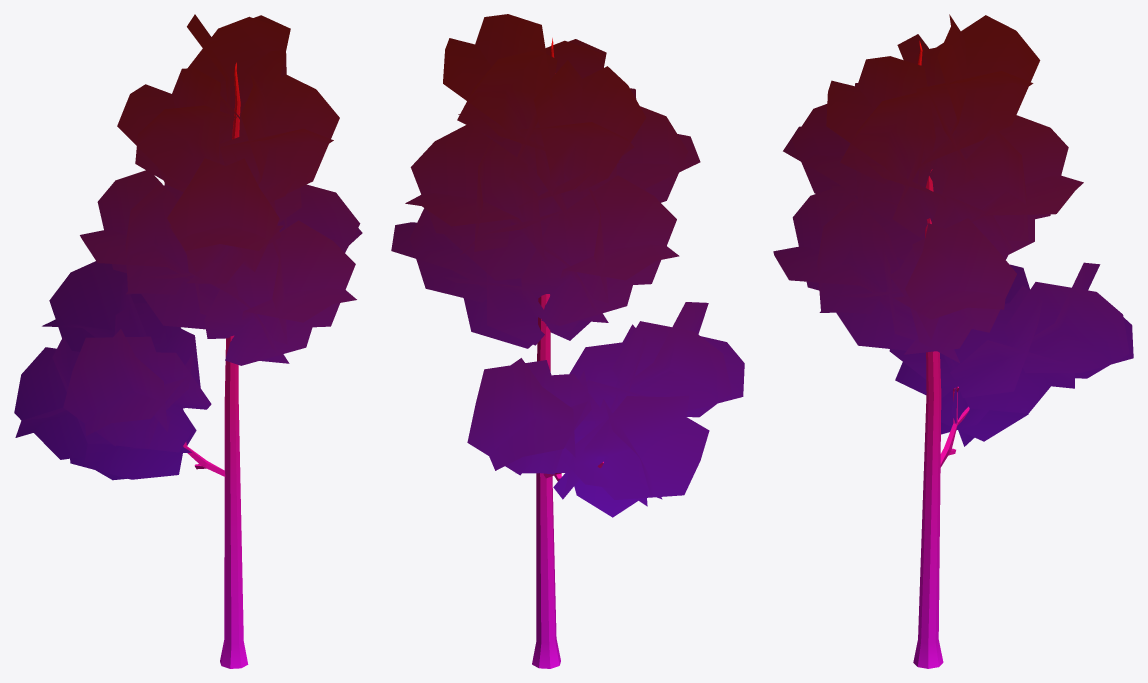
The model's file is synty-tree-birch-04.gltf.
3 renders of one model, left to right at view 1: azimuth 30°, elevation 25°; view 2: azimuth 150°, elevation 25°; view 3: azimuth 270°, elevation 25°, orthographic. The views are drawn at different scales.
Parts seen in each view (by area): view 1: SM_Tree_Birch_04; view 2: SM_Tree_Birch_04; view 3: SM_Tree_Birch_04.
Part boxes in pixels (x1,y1,x2,y2): SM_Tree_Birch_04: [14, 14, 362, 668]; SM_Tree_Birch_04: [391, 14, 744, 668]; SM_Tree_Birch_04: [773, 14, 1133, 668].
Size of the model in its own units: 2.52 by 4.89 by 2.46.
